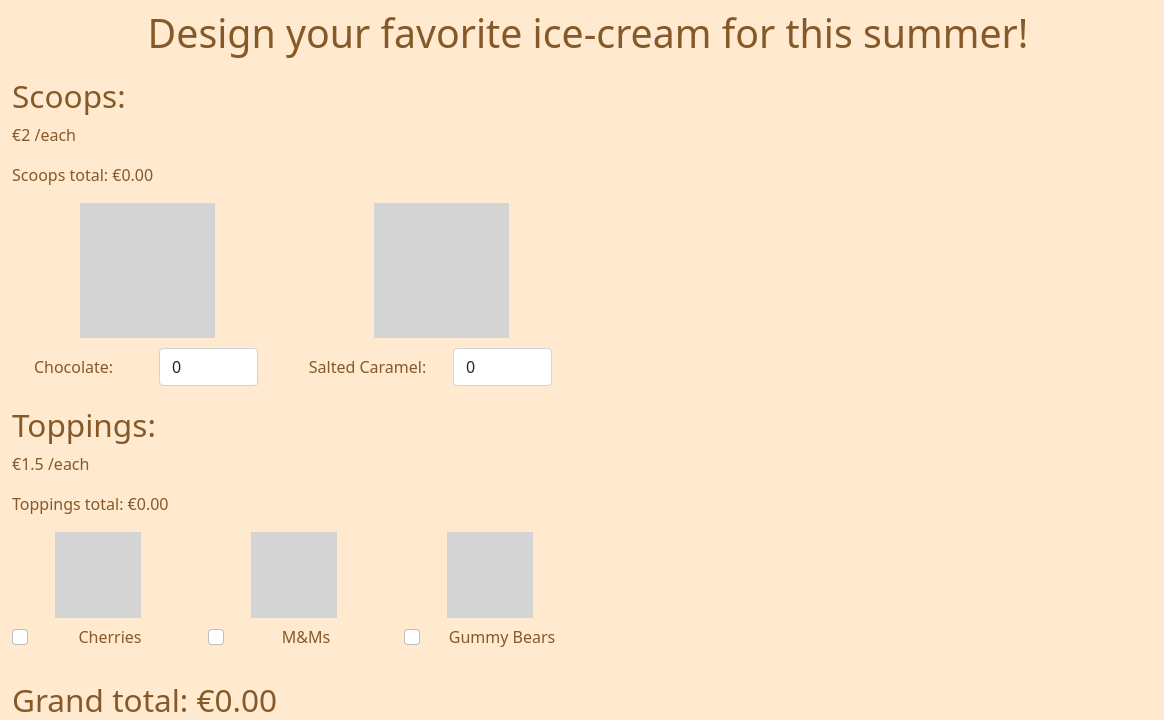
Test case: grand total › grand total updates if 1 scoop added first
Expected: the heading "Grand total: €0.00" is shown, [12,678,277,719]
Replace the text in the number field labelled "Salted Caramel:" with "2": (502, 367) [453,348,552,386]
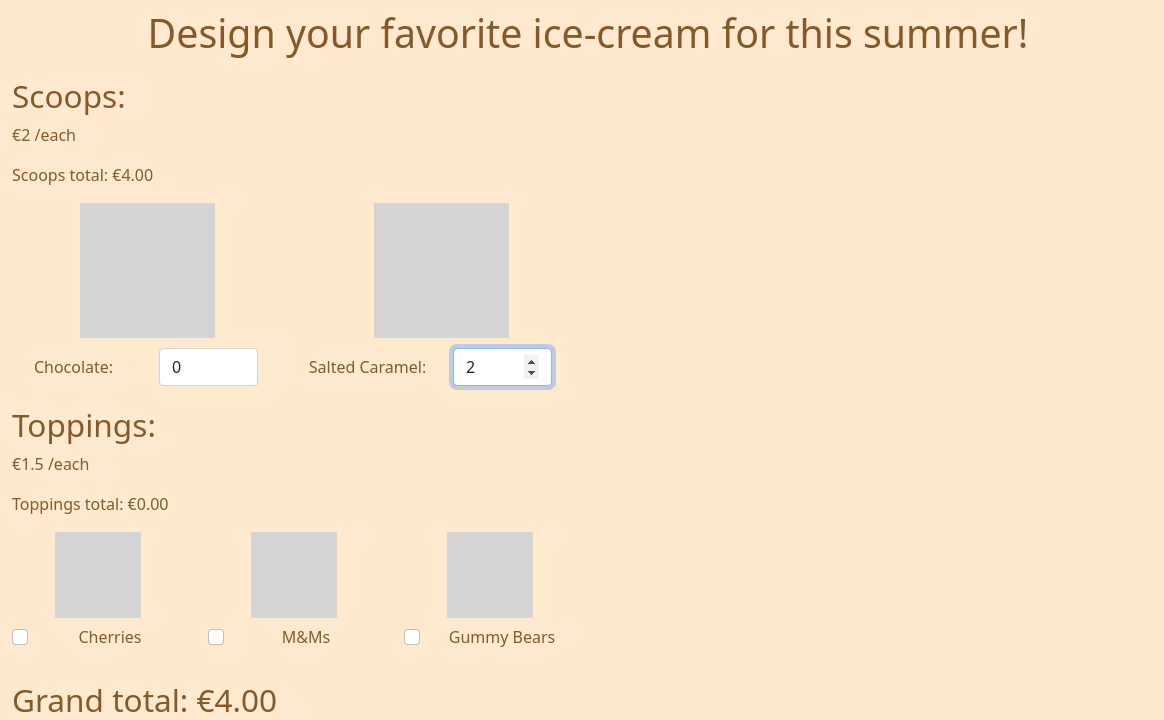
Expected: the heading "Grand total: €4.00" is shown, [12,678,277,719]
Click the checkbox labelled "M&Ms": (216, 637) [208,629,224,645]
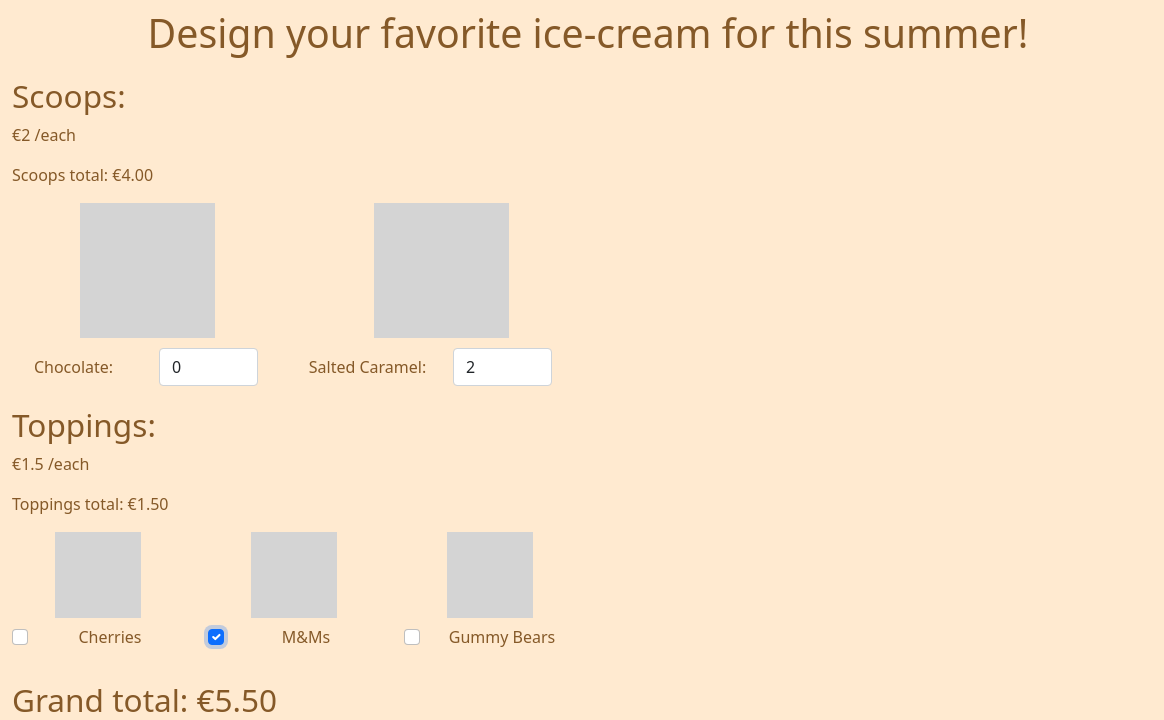
Expected: the heading "Grand total: €5.50" is shown, [12,678,277,719]
